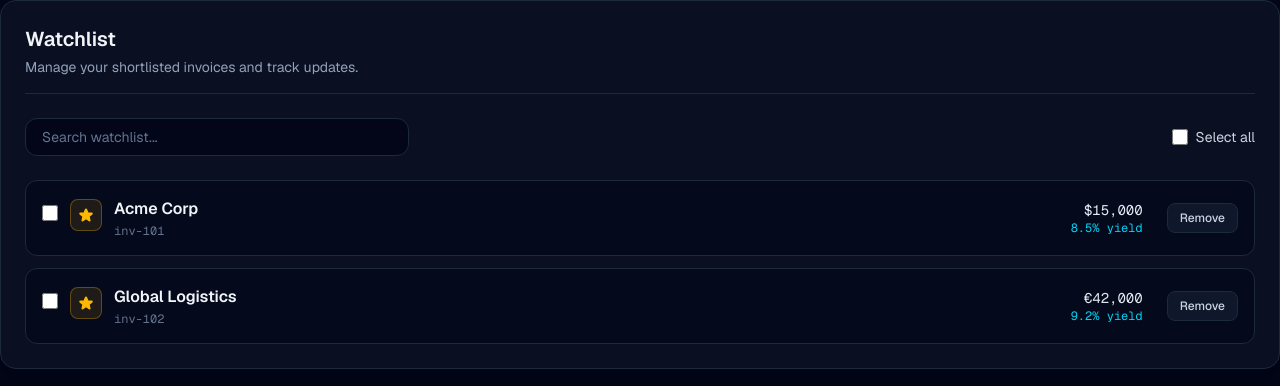
Test: Watchlist Component — States and Interactions › Primary Interactions & Keyboard Controls › filters items dynamically when typing in search input
Check: the link "Acme Corp" is shown, box [114, 197, 198, 221]
Check: the link "Global Logistics" is shown, box [114, 285, 237, 309]
Type "Global" into the search field labelled "Search watchlist". click: {"x": 217, "y": 137}
box: [25, 118, 409, 156]
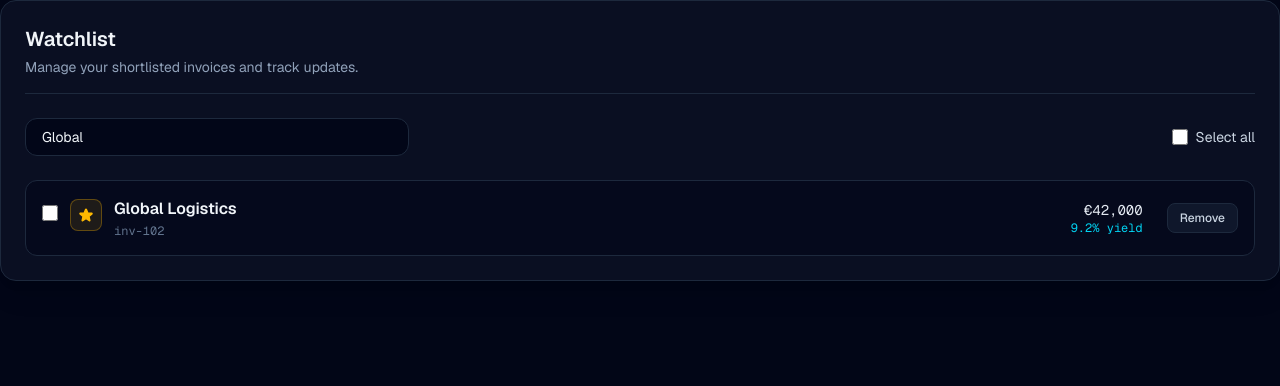
Check: the link "Global Logistics" is shown, box [114, 197, 237, 221]
Check: the link "Acme Corp" is gone
